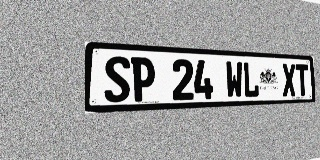2: (172, 59, 193, 100)
4: (194, 60, 213, 100)
L: (243, 62, 259, 98)
P: (131, 57, 155, 102)
S: (104, 56, 130, 103)
T: (295, 64, 309, 96)
W: (225, 61, 243, 98)
X: (282, 63, 296, 97)
